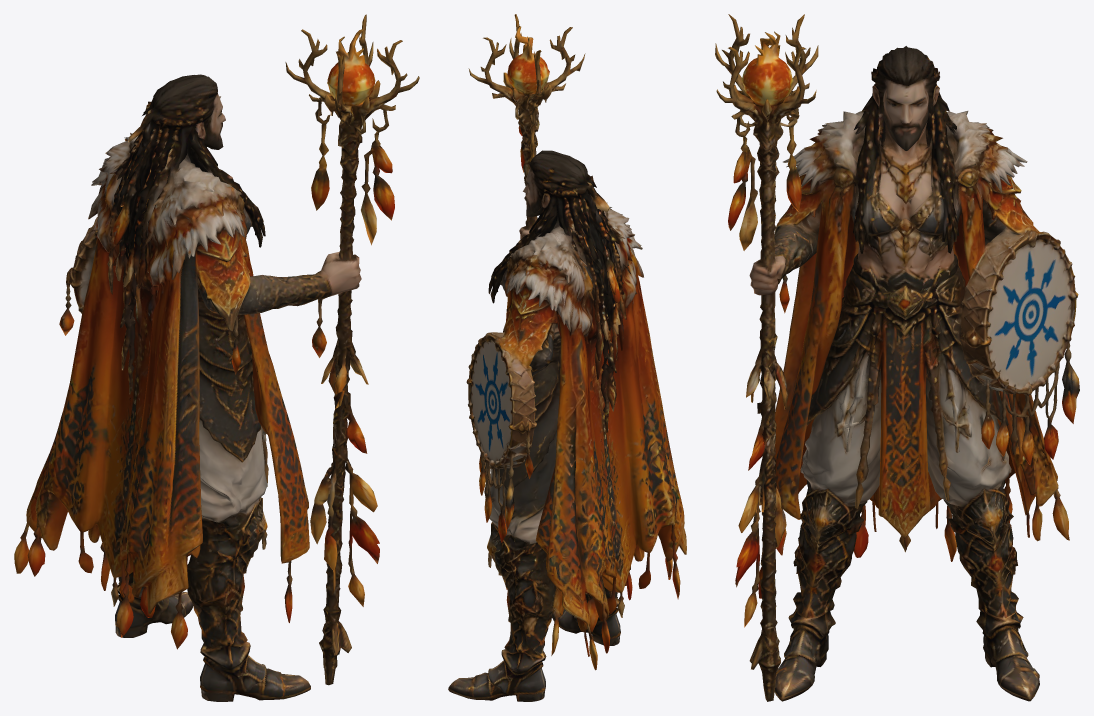
File: drumcalleralt_T6-tripo.glb
3 views of the same model, side by side, from view 1: azimuth 30°, elevation 25°; view 2: azimuth 150°, elevation 25°; view 3: azimuth 270°, elevation 25° (orthographic). The views are drawn at different scales.
Parts seen in each view (by area): view 1: tripo_node_e72c29f9-41ae-4e5f-a627-596fd940d3b6; view 2: tripo_node_e72c29f9-41ae-4e5f-a627-596fd940d3b6; view 3: tripo_node_e72c29f9-41ae-4e5f-a627-596fd940d3b6.
Part boxes in pixels (left/top/right/bottom): tripo_node_e72c29f9-41ae-4e5f-a627-596fd940d3b6: left=14, top=14, right=419, bottom=701; tripo_node_e72c29f9-41ae-4e5f-a627-596fd940d3b6: left=448, top=14, right=686, bottom=701; tripo_node_e72c29f9-41ae-4e5f-a627-596fd940d3b6: left=715, top=14, right=1079, bottom=701.
Size of the model in its own units: 0.404 by 1 by 0.4775.
1 material, 1 textured.
